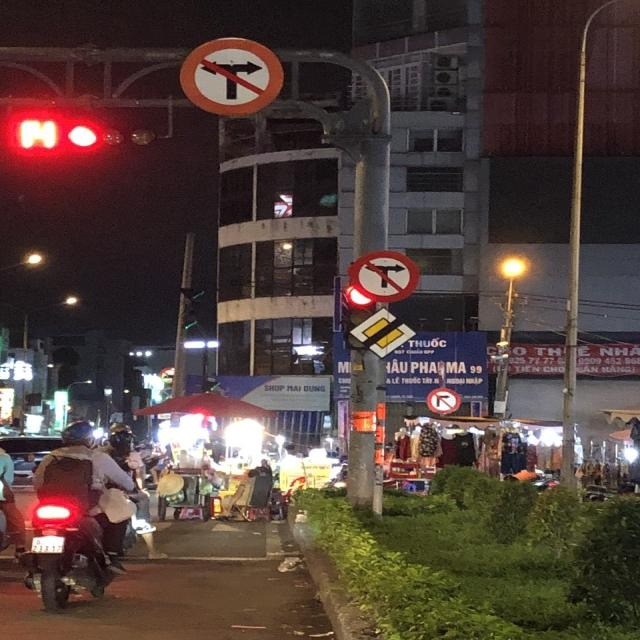Bien bao cam re phai: (424, 388, 462, 418)
